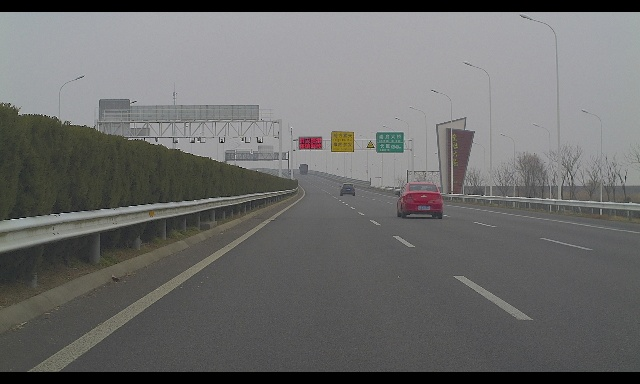car: (395, 182, 443, 219), (339, 183, 356, 196)
truck: (299, 164, 308, 174)
